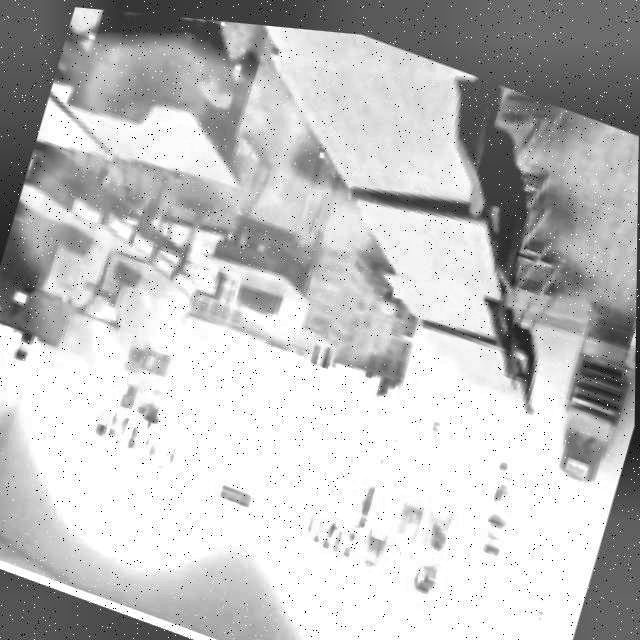Smoke: (0, 6, 475, 498)
